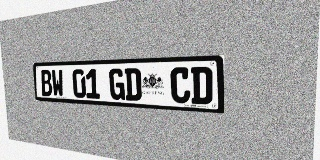0: (72, 69, 86, 98)
1: (85, 69, 100, 99)
B: (40, 70, 53, 96)
C: (170, 67, 190, 104)
D: (191, 67, 212, 105), (124, 68, 142, 101)
G: (109, 68, 125, 100)
W: (51, 70, 64, 97)
